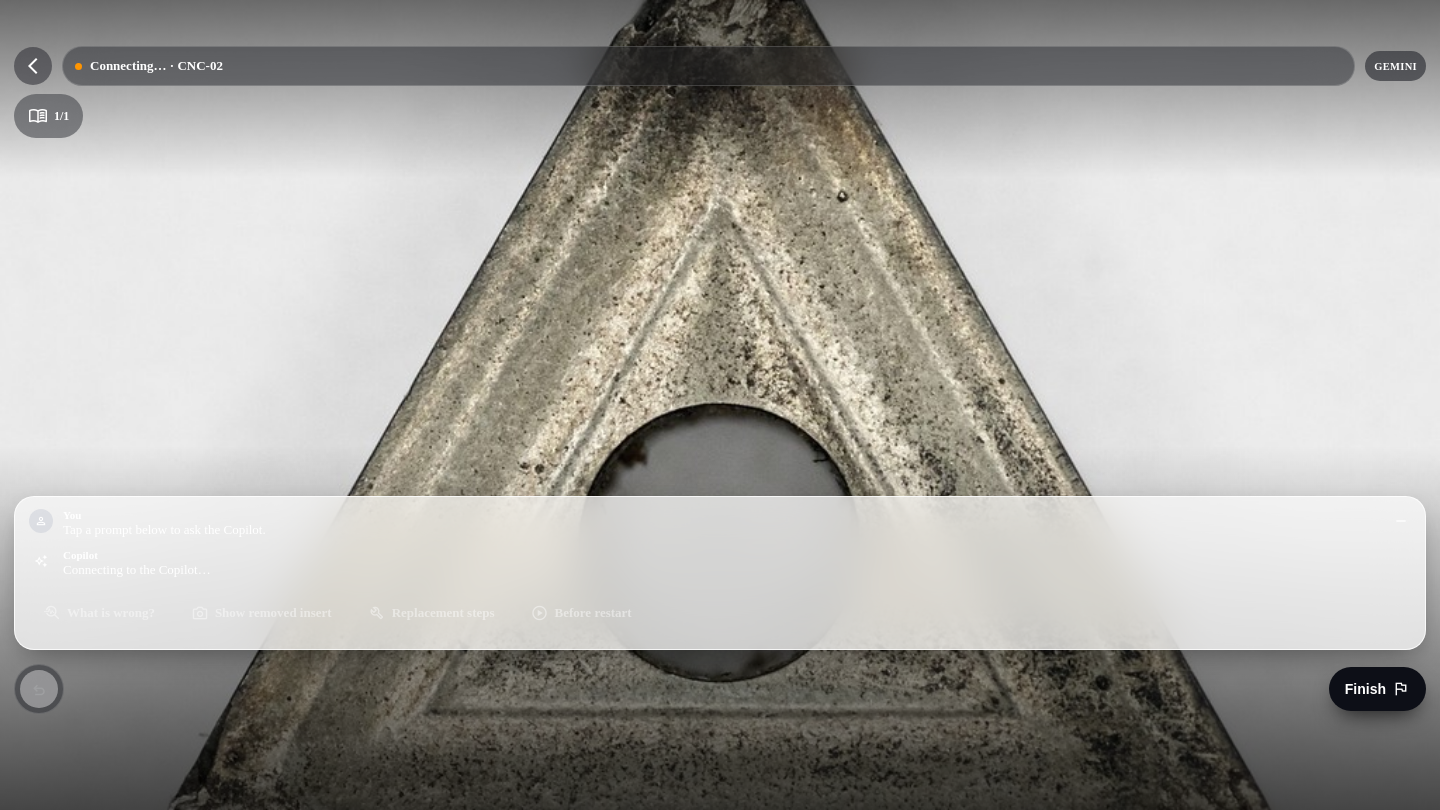
Test: camera bubbles › starts with the chat open and the step card collapsed to a bubble
Expected: the text "Stop the spindle" is not shown
Click the button named "Show step card: Stop the spindle".
click(49, 116)  # box [14, 94, 83, 138]
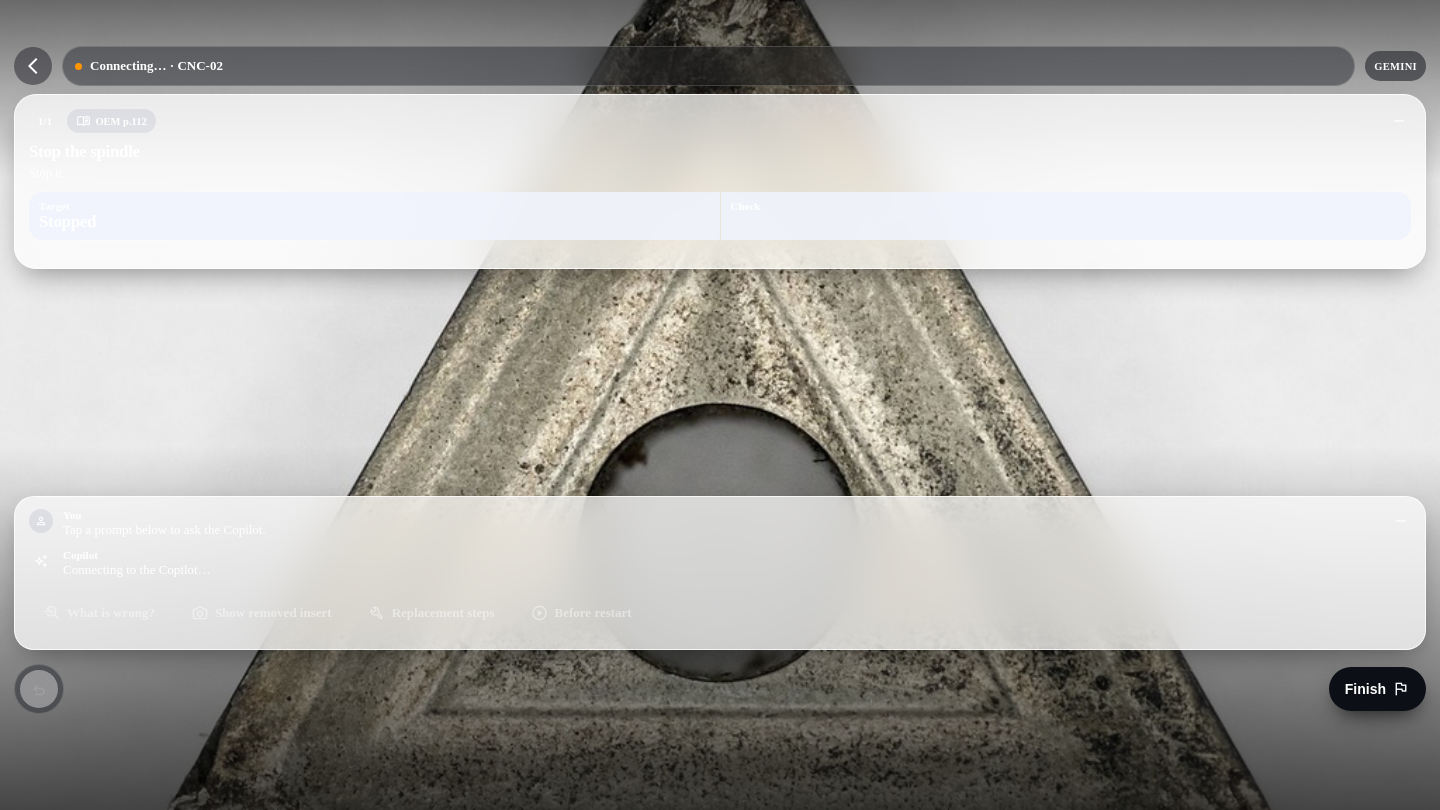
Click the button named "Minimize step card".
click(1399, 121)  # box [1377, 99, 1421, 143]
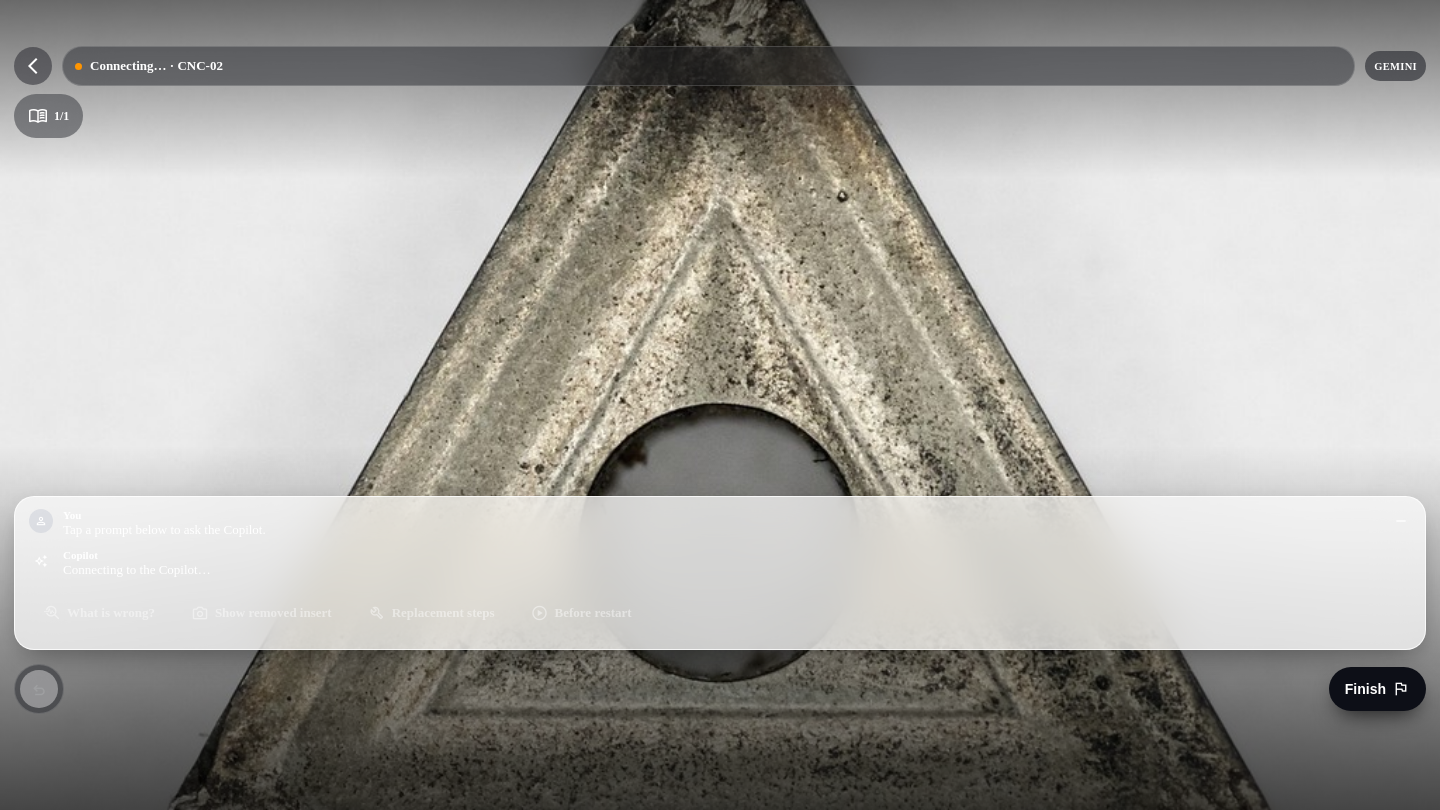
Now the heading "Stop the spindle" is gone
